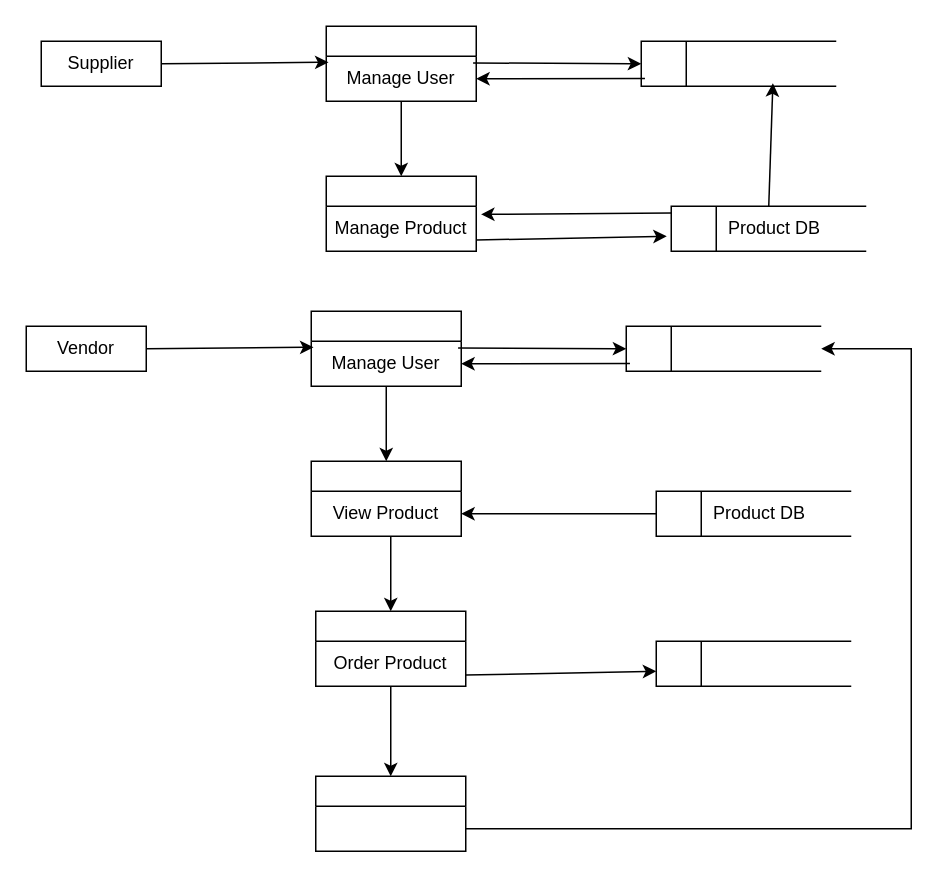
Image size: 950x878. Some labels were removed from this diagram. The shapes that lost their labels are listed below. From the top down, each one's box as (x1, y1, x2, y2) in pixels, then its label:
(640, 40, 836, 86): Supplier DB
(625, 325, 821, 371): Vendor DB
(655, 640, 851, 686): Order DB
(314, 775, 466, 851): Payment
